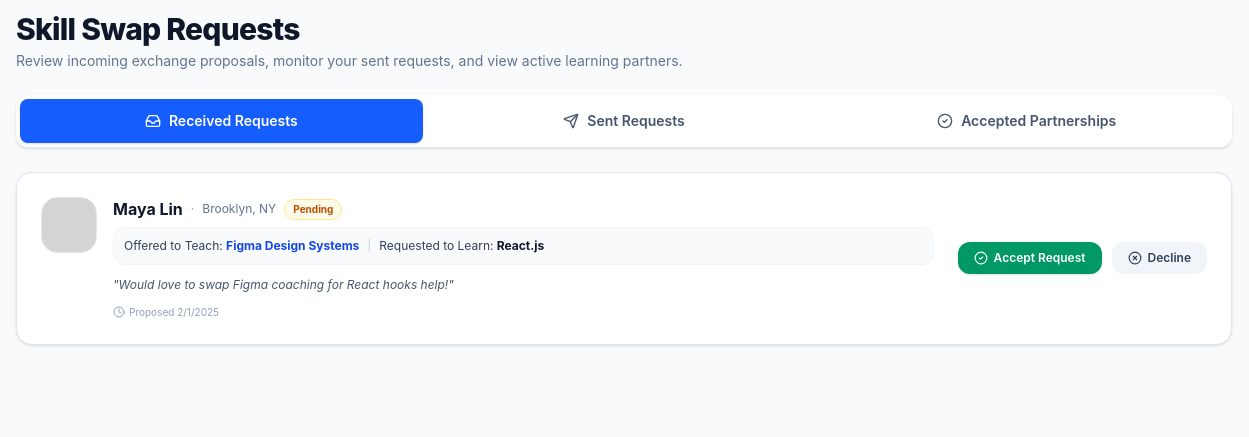
Test case: Swap Requests Feature (SwapRequestsPage) › loads received requests and allows accepting a pending proposal
The image size is (1249, 437).
Expected: the heading "Maya Lin" is shown, top-left (113, 197), bottom-right (183, 221)
Click the button "Accept Request" at (1030, 258), box top-left (958, 242), bottom-right (1102, 274)
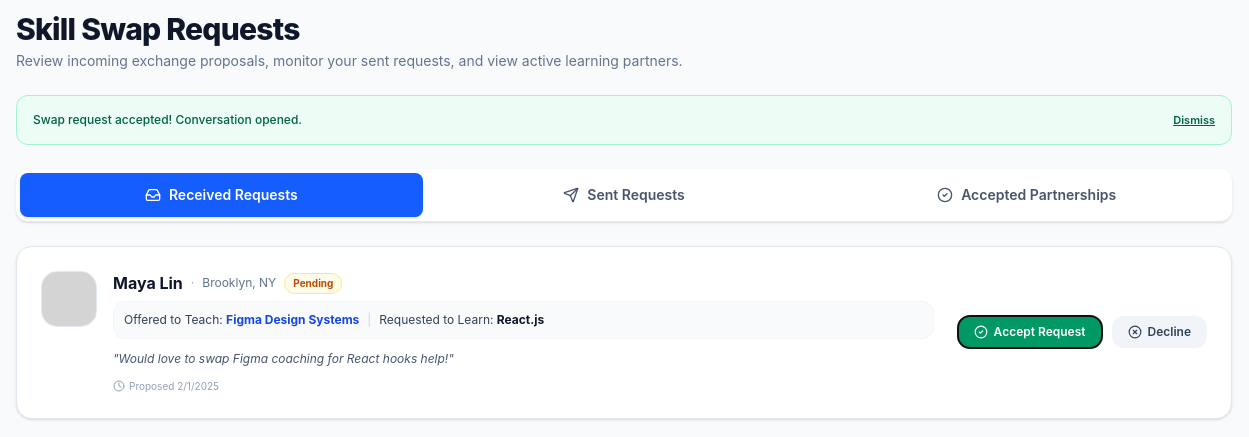
Expected: the message shows "Swap request accepted! Conversation opened.", top-left (33, 112), bottom-right (302, 127)
